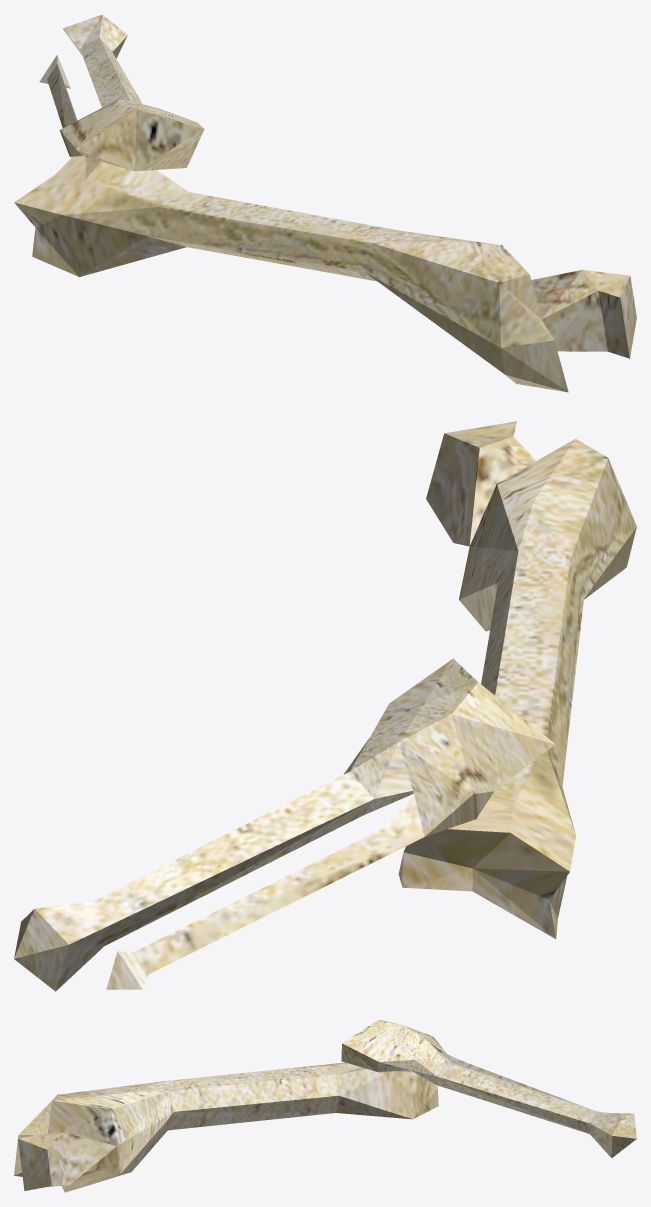
File: poi_tato_skel_krayt_leg_s02_l0.fbx
3 views of the same model, one above another, from view 1: azimuth 30°, elevation 25°; view 2: azimuth 150°, elevation 25°; view 3: azimuth 270°, elevation 25° (orthographic). The views are drawn at different scales.
Visible parts, largest first — view 1: mesh_node; view 2: mesh_node; view 3: mesh_node.
Boxes of the visible parts, x1,y1,x2,y2 form: mesh_node: (14, 14, 636, 392); mesh_node: (14, 421, 636, 991); mesh_node: (14, 1020, 636, 1192).
Size of the model in its own units: 3.46 by 1.4 by 7.32.
2 materials, 2 textured.
